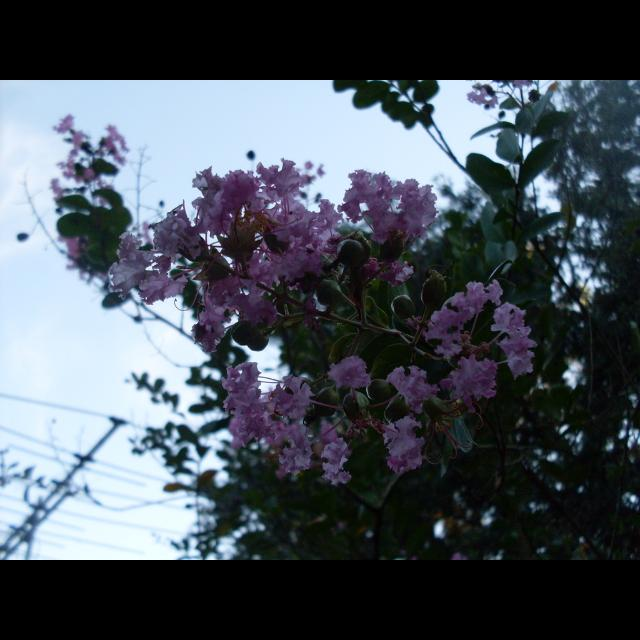Flower: (58, 113, 540, 475), (322, 437, 351, 479), (469, 89, 499, 113), (513, 80, 533, 92)
